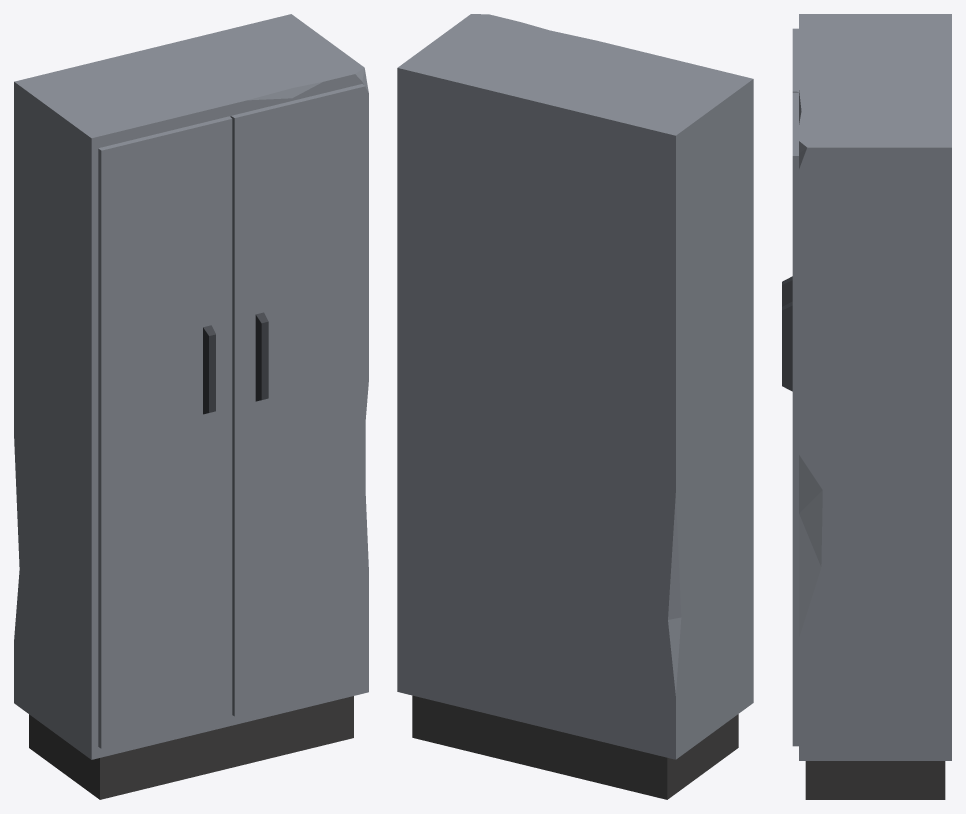
The model's file is SM_Prop_Cabinet_01.fbx.
3 renders of one model, left to right at view 1: azimuth 30°, elevation 25°; view 2: azimuth 150°, elevation 25°; view 3: azimuth 270°, elevation 25°, orthographic.
Visible parts, largest first — view 1: SM_Prop_Cabinet_01; view 2: SM_Prop_Cabinet_01; view 3: SM_Prop_Cabinet_01.
Part boxes in pixels (left/top/right/bottom): SM_Prop_Cabinet_01: left=14, top=14, right=368, bottom=799; SM_Prop_Cabinet_01: left=397, top=14, right=753, bottom=799; SM_Prop_Cabinet_01: left=782, top=14, right=951, bottom=799.
Bounding box in the file's own units: 91.83 × 211 × 49.32.
